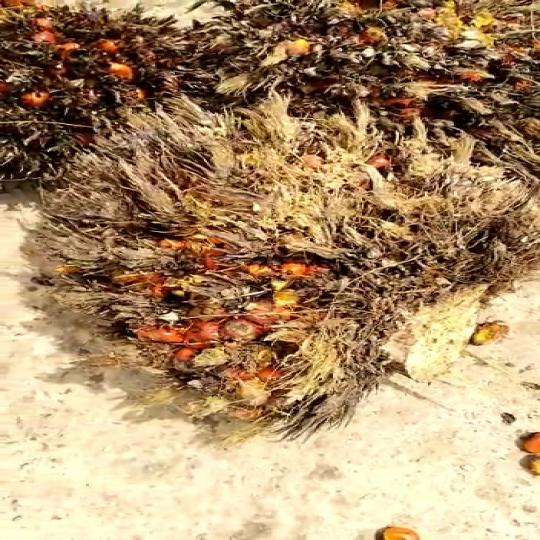terlalu masak: (33, 90, 537, 441)
